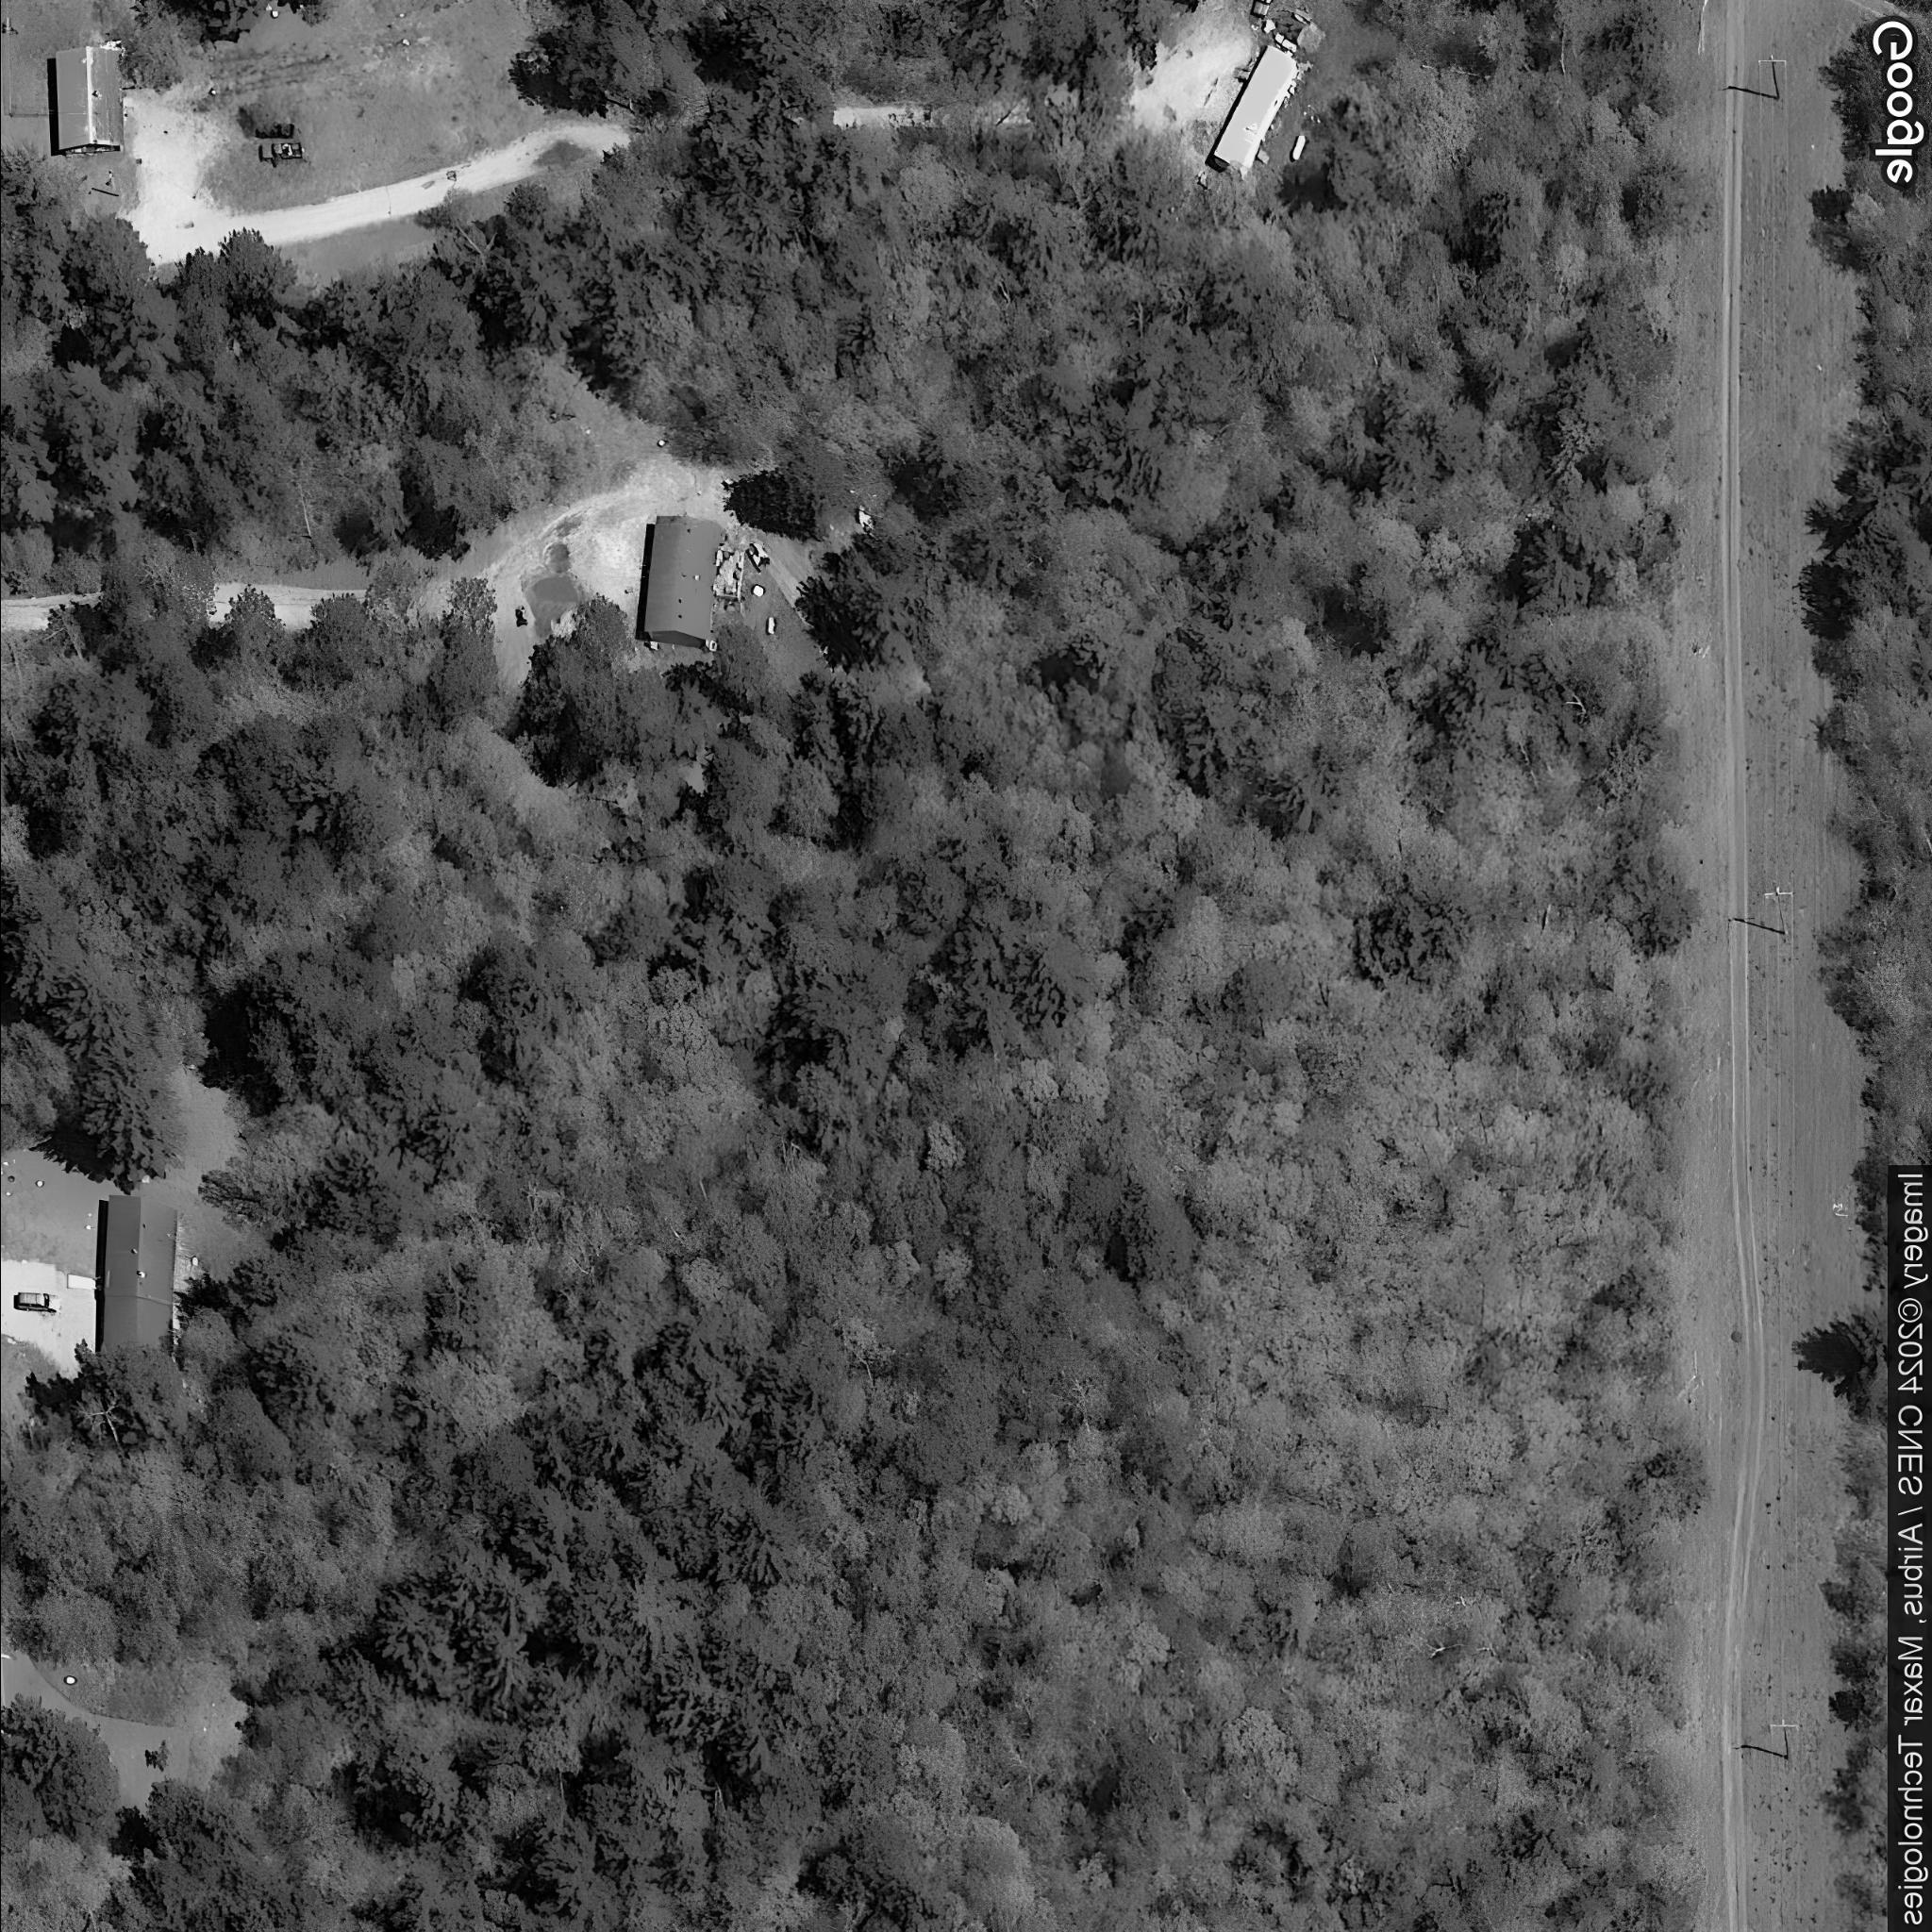House: (97, 1192, 180, 1368), (1212, 42, 1300, 180), (640, 513, 722, 649), (51, 42, 126, 156)
Propane: (1284, 133, 1311, 166)
